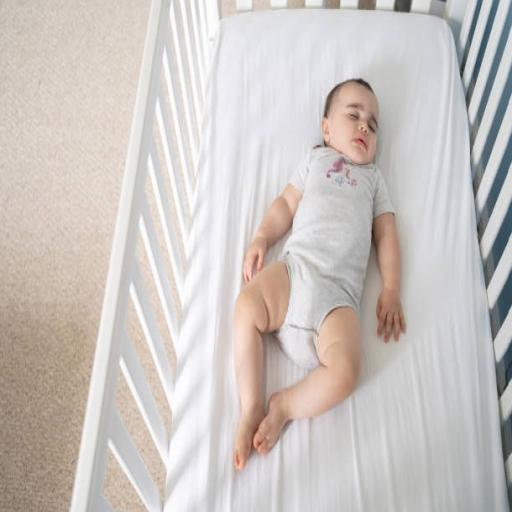baby: (234, 80, 405, 470)
crib: (72, 0, 511, 510)
